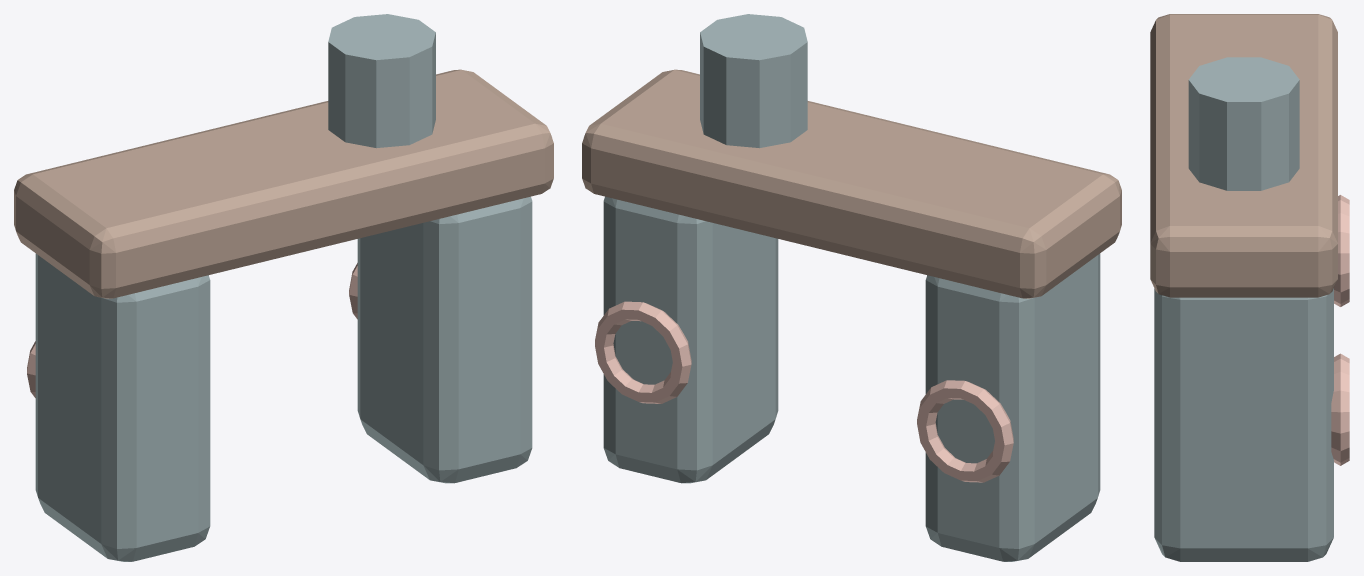
File: kiln_arch.glb
The picture shows the model from 3 angles, left to right: view 1: azimuth 30°, elevation 25°; view 2: azimuth 150°, elevation 25°; view 3: azimuth 270°, elevation 25°; orthographic projection.
Visible parts, largest first — view 1: kiln_arch_Ocean_basalt, kiln_arch_Salvaged_teak, kiln_arch_Sun_coral; view 2: kiln_arch_Ocean_basalt, kiln_arch_Salvaged_teak, kiln_arch_Sun_coral; view 3: kiln_arch_Ocean_basalt, kiln_arch_Salvaged_teak, kiln_arch_Sun_coral.
Part boxes in pixels (box(x1,y1,x2,y2)): kiln_arch_Ocean_basalt: box(35, 14, 532, 561); kiln_arch_Salvaged_teak: box(14, 69, 553, 298); kiln_arch_Sun_coral: box(27, 263, 357, 397); kiln_arch_Ocean_basalt: box(603, 14, 1100, 561); kiln_arch_Salvaged_teak: box(582, 69, 1121, 298); kiln_arch_Sun_coral: box(595, 301, 1013, 482); kiln_arch_Ocean_basalt: box(1154, 57, 1333, 561); kiln_arch_Salvaged_teak: box(1150, 14, 1337, 297); kiln_arch_Sun_coral: box(1331, 195, 1349, 465).
Bounding box in the file's own units: 3.3 × 2.94 × 1.22.
